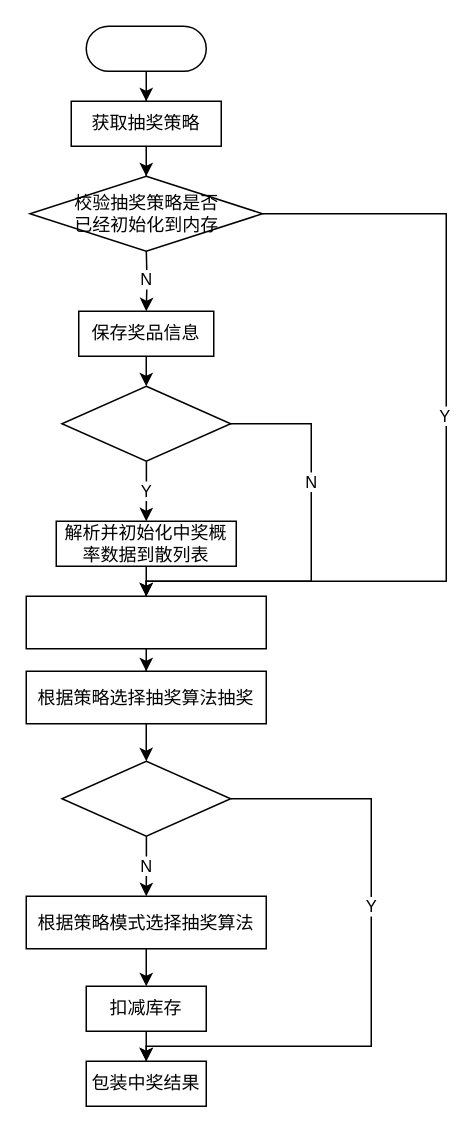
Image size: 476x1133. Some labels were removed from this diagram. Here are the shapes that lost their labels. From the top down, the centre of each, then its label:
At pixel 145 48: "开始".
At pixel 145 423: "是否单向概率算法".
At pixel 145 622: "获取不在抽奖范围内的列表".
At pixel 145 798: "抽奖结果是否为空".
